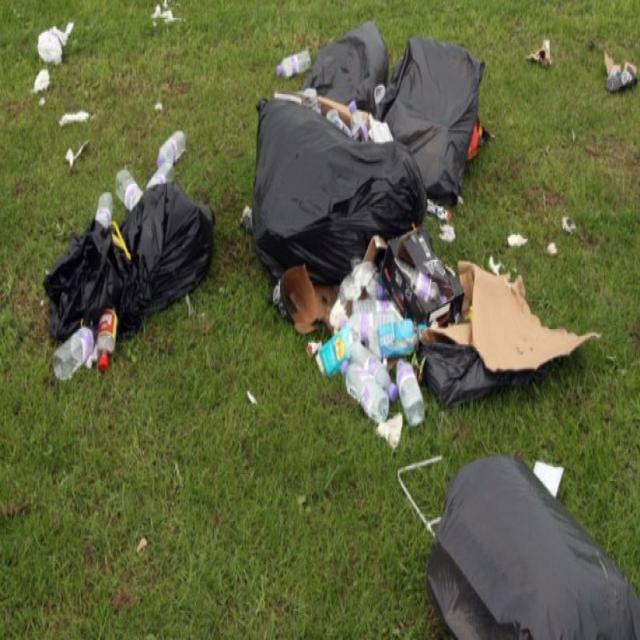dry: (418, 441, 640, 640), (247, 79, 428, 268), (36, 175, 230, 348), (458, 236, 606, 402), (389, 29, 493, 208), (271, 251, 341, 344), (33, 17, 90, 78), (596, 36, 640, 108), (394, 352, 428, 429), (528, 450, 572, 504), (275, 42, 314, 83), (527, 35, 560, 80)
